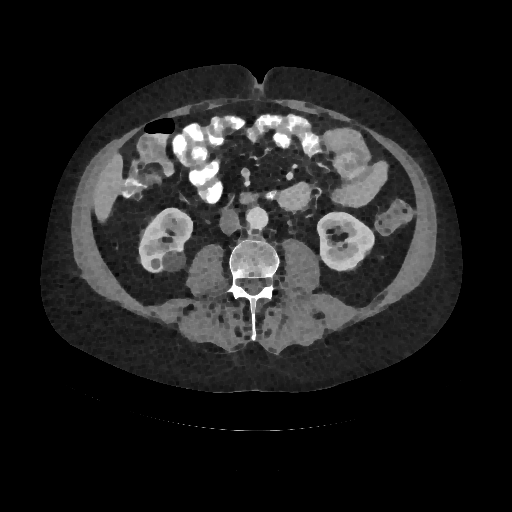Lesion: (159, 249, 190, 277)
